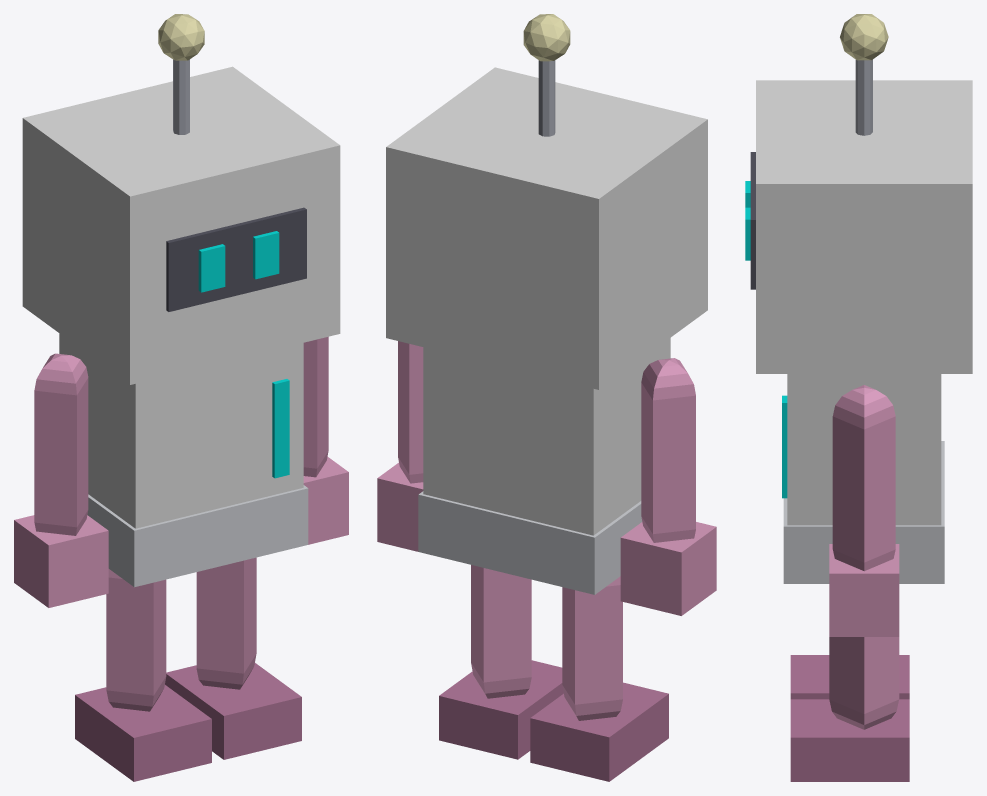
File: robot_pink.glb
3 renders of one model, left to right at view 1: azimuth 30°, elevation 25°; view 2: azimuth 150°, elevation 25°; view 3: azimuth 270°, elevation 25°, orthographic.
Visible parts, largest first — view 1: geometry_0; view 2: geometry_0; view 3: geometry_0.
Boxes of the visible parts, <box> form: geometry_0: <box>14,14,348,781</box>; geometry_0: <box>377,14,716,781</box>; geometry_0: <box>745,14,972,781</box>.
Size of the model in its own units: 1 by 2.29 by 0.65.
